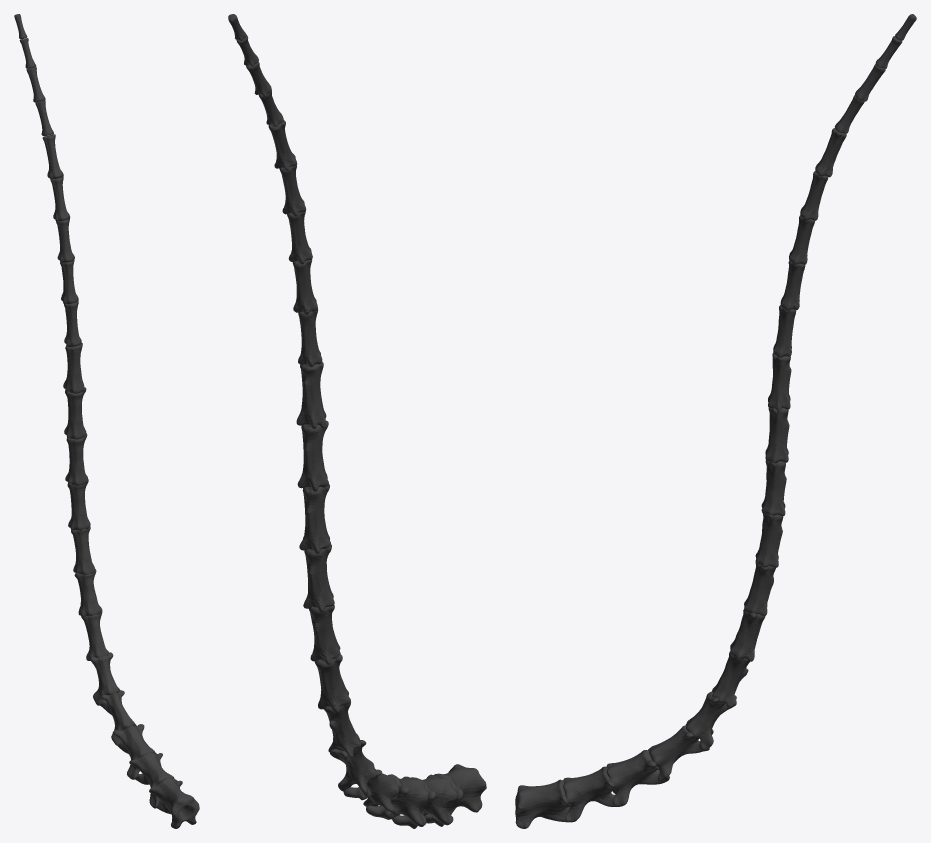
Rendered from Spine_coccygeals_1.glb.
3 views of the same model, side by side, from view 1: azimuth 30°, elevation 25°; view 2: azimuth 150°, elevation 25°; view 3: azimuth 270°, elevation 25° (orthographic). The views are drawn at different scales.
Visible parts, largest first — view 1: Spine_coccygeals_1; view 2: Spine_coccygeals_1; view 3: Spine_coccygeals_1.
Boxes of the visible parts, left/top/right/bottom form: Spine_coccygeals_1: left=14, top=14, right=199, bottom=828; Spine_coccygeals_1: left=228, top=14, right=486, bottom=828; Spine_coccygeals_1: left=515, top=14, right=916, bottom=828.
Bounding box in the file's own units: 0.000536 × 0.0107 × 0.00482.
1 material, 1 textured.
